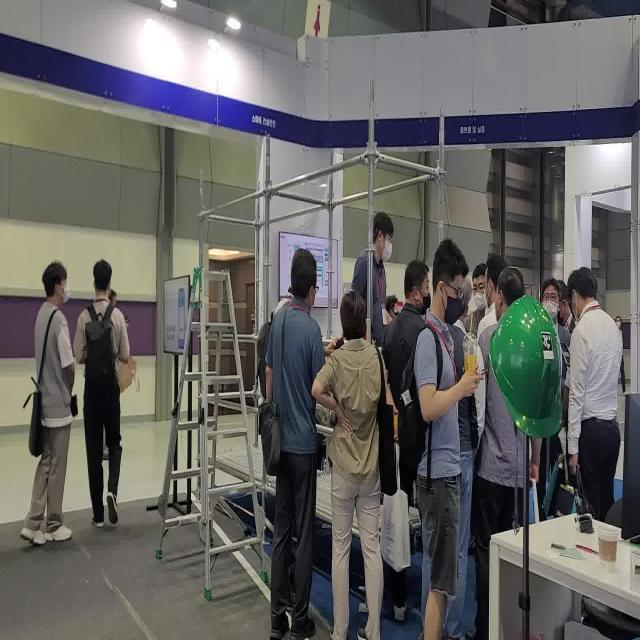hard hat: (142, 239, 270, 611)
vest: (412, 226, 484, 638), (329, 268, 397, 640), (273, 239, 323, 629), (80, 236, 140, 534), (23, 243, 79, 549), (557, 256, 623, 508)
